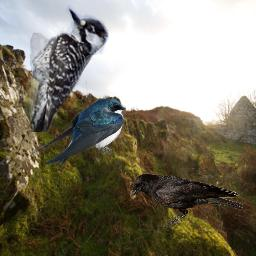Crow: (128, 173, 243, 229)
Swallow: (32, 98, 126, 166)
Woodpecker: (7, 4, 109, 132)
